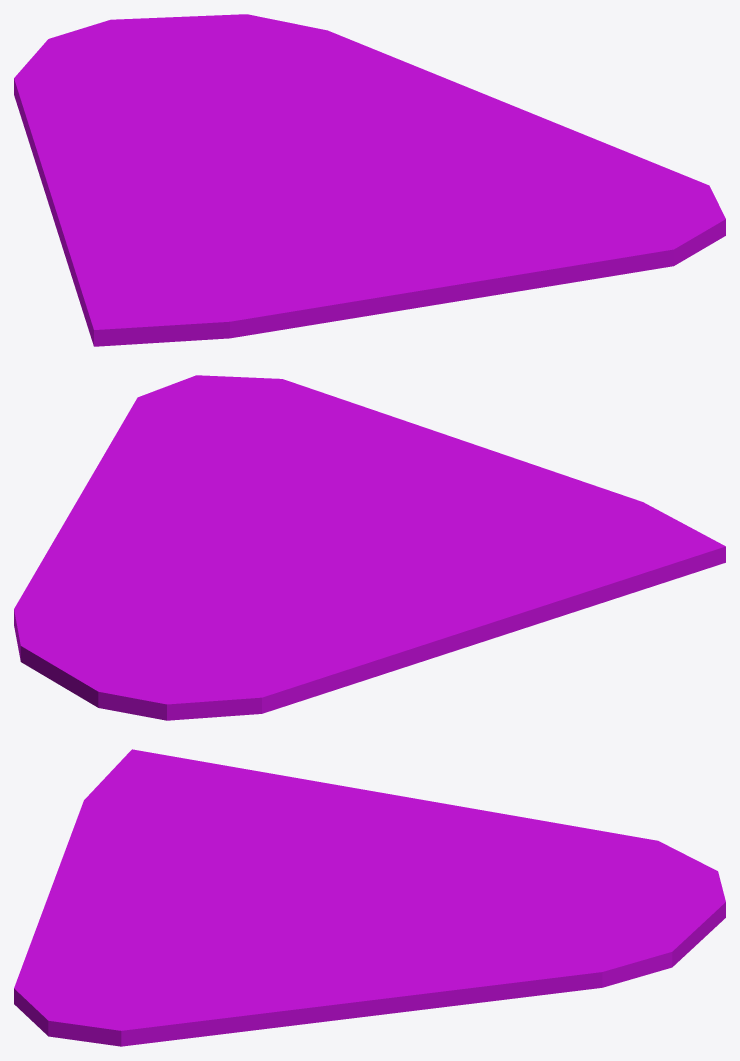
The model's file is hole_8_dino_floor_v002.glb.
The picture shows the model from 3 angles, top to bottom: view 1: azimuth 30°, elevation 25°; view 2: azimuth 150°, elevation 25°; view 3: azimuth 270°, elevation 25°; orthographic projection. The views are drawn at different scales.
Visible parts, largest first — view 1: dino floor; view 2: dino floor; view 3: dino floor.
Part boxes in pixels (left/top/right/bottom): dino floor: left=14, top=14, right=725, bottom=346; dino floor: left=14, top=375, right=725, bottom=720; dino floor: left=14, top=749, right=725, bottom=1046.
Bounding box in the file's own units: 15.77 × 0.4123 × 16.86.
